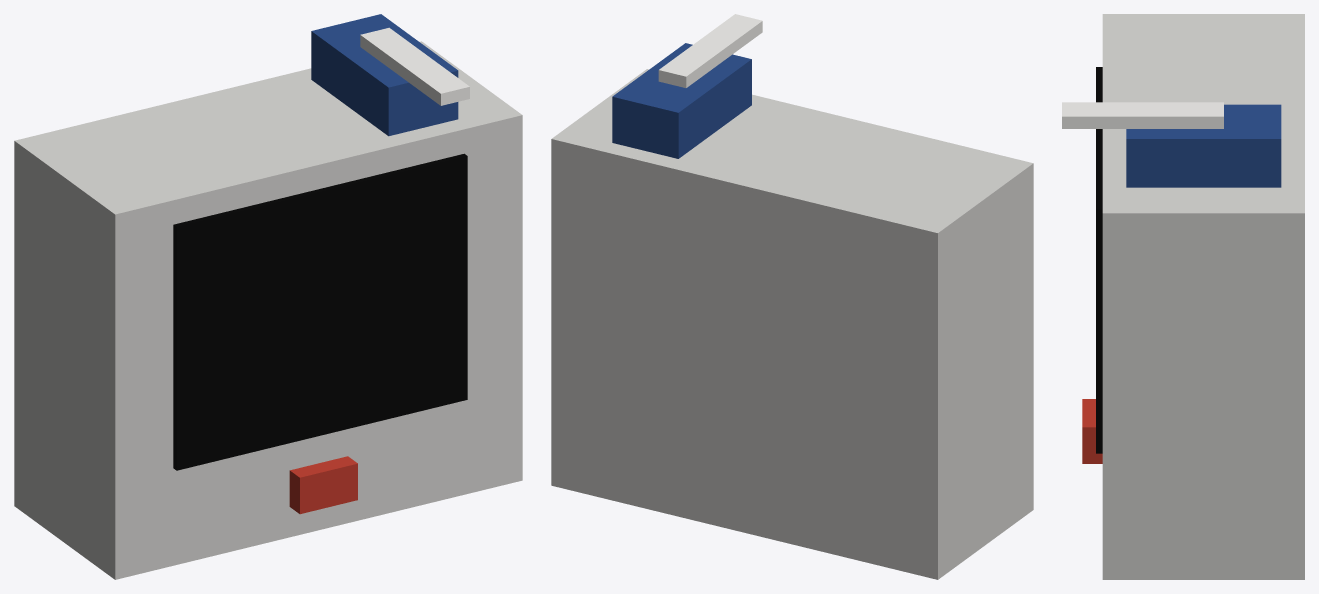
File: kit.glb
3 views of the same model, side by side, from view 1: azimuth 30°, elevation 25°; view 2: azimuth 150°, elevation 25°; view 3: azimuth 270°, elevation 25° (orthographic). The views are drawn at different scales.
Visible parts, largest first — view 1: case, screen, servo, arm, button; view 2: case, servo, arm; view 3: case, servo, arm, screen, button.
Part boxes in pixels (bbox=[...]): case: bbox=[14, 41, 522, 579]; screen: bbox=[173, 153, 467, 470]; servo: bbox=[311, 14, 458, 136]; arm: bbox=[360, 27, 469, 105]; button: bbox=[289, 456, 357, 514]; case: bbox=[551, 69, 1033, 579]; servo: bbox=[612, 43, 751, 158]; arm: bbox=[658, 14, 762, 87]; case: bbox=[1102, 14, 1304, 579]; servo: bbox=[1126, 104, 1281, 187]; arm: bbox=[1062, 102, 1223, 128]; screen: bbox=[1096, 67, 1102, 453]; button: bbox=[1082, 399, 1102, 463].
Size of the model in its own units: 70 by 70 by 36.
